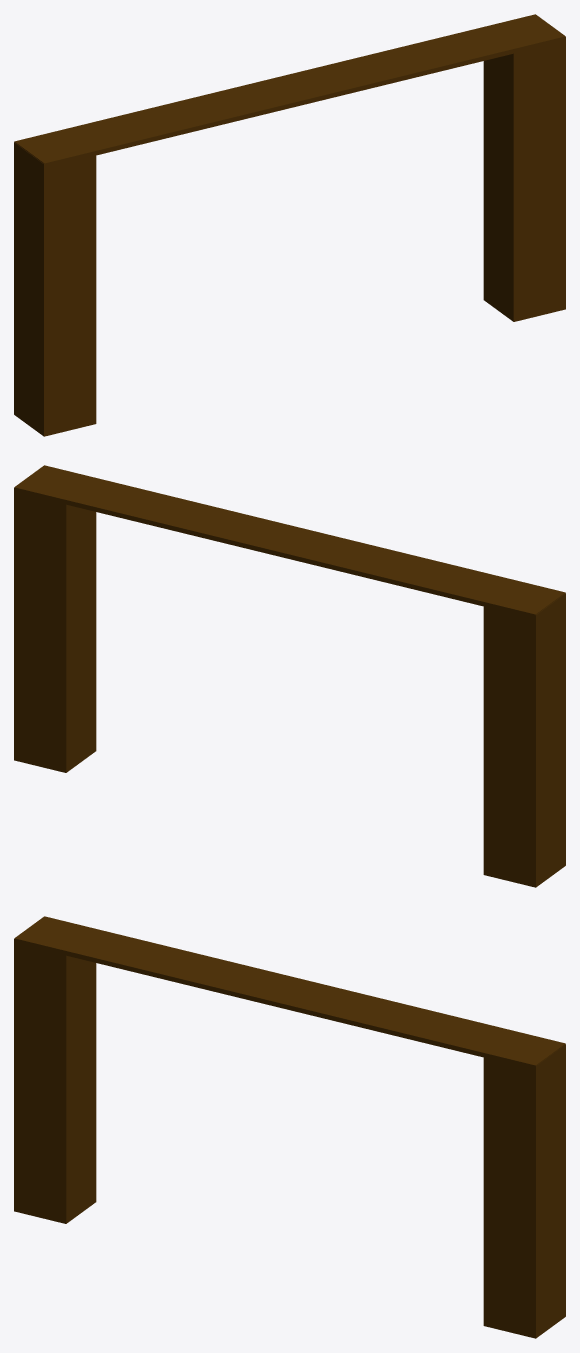
Rendered from fence3.fbx.
The picture shows the model from 3 angles, top to bottom: view 1: azimuth 30°, elevation 25°; view 2: azimuth 150°, elevation 25°; view 3: azimuth 330°, elevation 25°; orthographic projection.
Visible parts, largest first — view 1: polySurface6; view 2: polySurface6; view 3: polySurface6.
Part boxes in pixels (left/top/right/bottom): polySurface6: left=14, top=14, right=565, bottom=436; polySurface6: left=14, top=465, right=565, bottom=887; polySurface6: left=14, top=916, right=565, bottom=1338.
Size of the model in its own units: 10 by 5 by 1.
